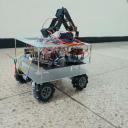cart: (14, 37, 93, 102)
